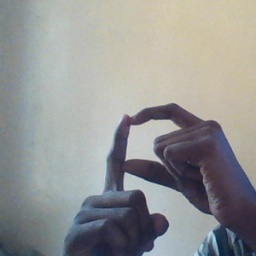D: (89, 98, 217, 221)
